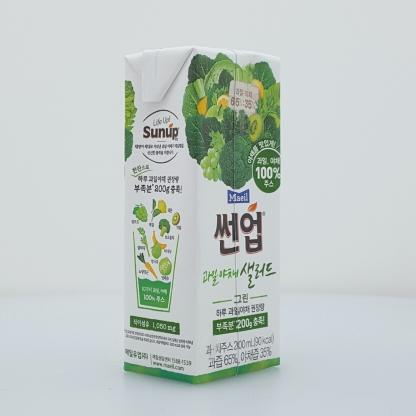-------------200ML: (123, 45, 281, 384)
